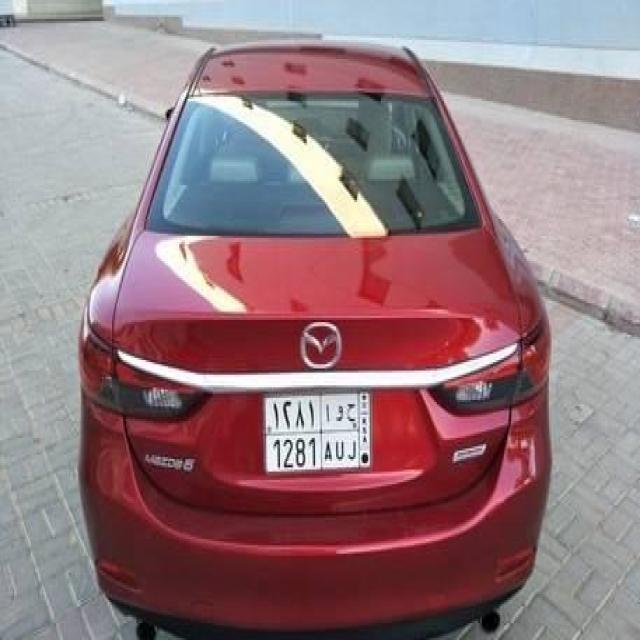license_plate: (254, 376, 376, 486)
